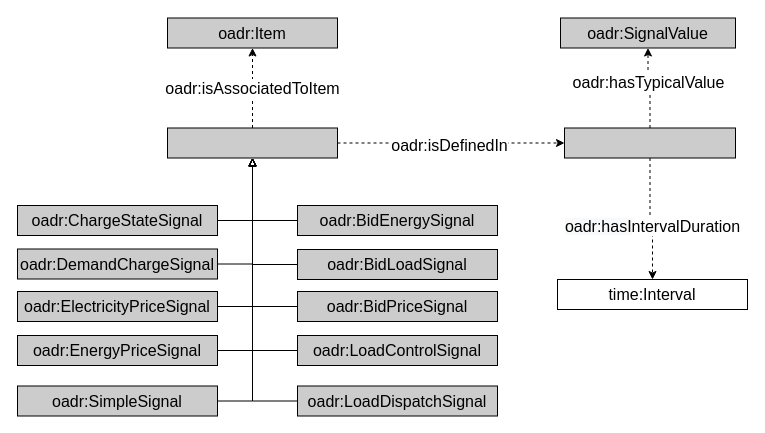
Image size: 765x433. Some labels were removed from this diagram. Here are the shapes that lost their labels. From the top down, the centre of each, then its label:
the point at 252,142: oadr:Signal
the point at 650,142: oadr: SignalInterval
